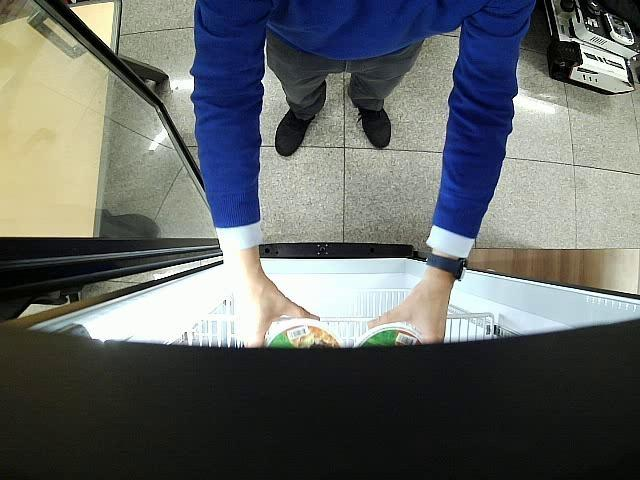09_yukGaeJang: (264, 322, 342, 350), (356, 322, 424, 347)
